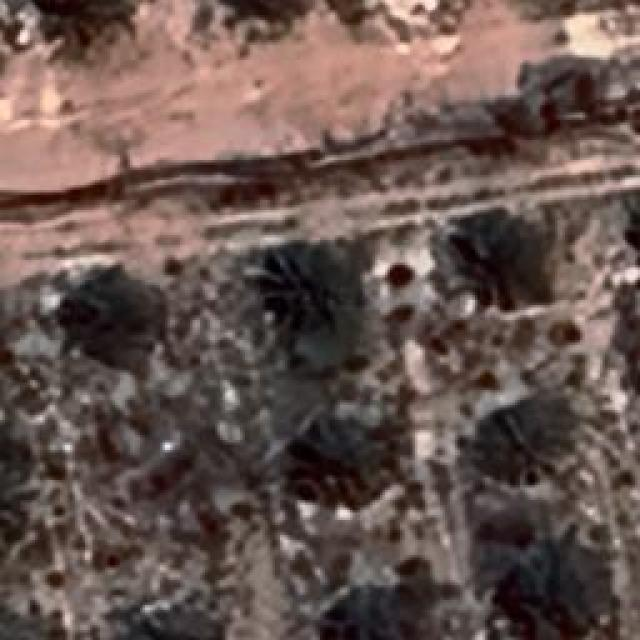PalmTree: (66, 264, 164, 384), (486, 388, 582, 494), (502, 538, 606, 632), (256, 235, 349, 330), (298, 420, 392, 508), (449, 220, 549, 300), (115, 588, 244, 640), (325, 577, 415, 640), (30, 0, 145, 43), (205, 0, 332, 28)
